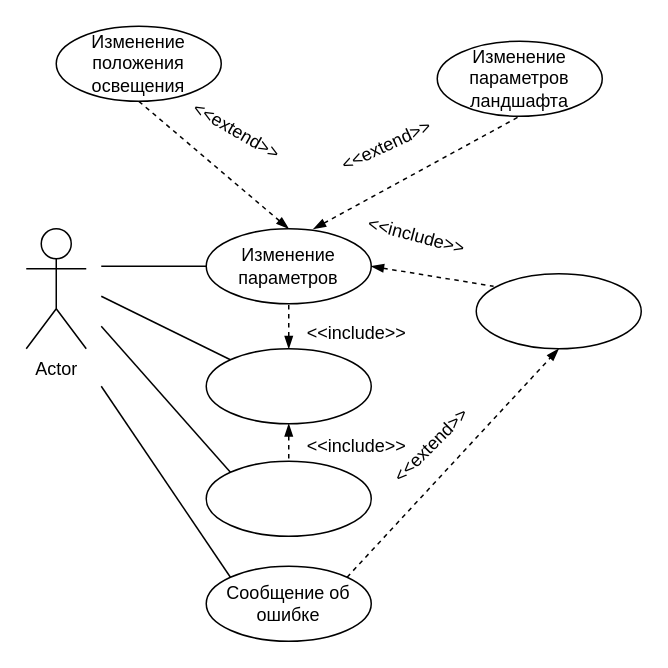
The diagram is 668 pixels wide and 668 high, and some of its shapes have lost their labels. The shapes that lost their labels are listed below. From the top down, each one's box as (x1, y1, x2, y2) in pixels, then its label:
(475, 272, 641, 349): Контроль данных
(205, 347, 371, 424): Вывод изображения
(205, 460, 371, 536): Загрузка параметров из файла
